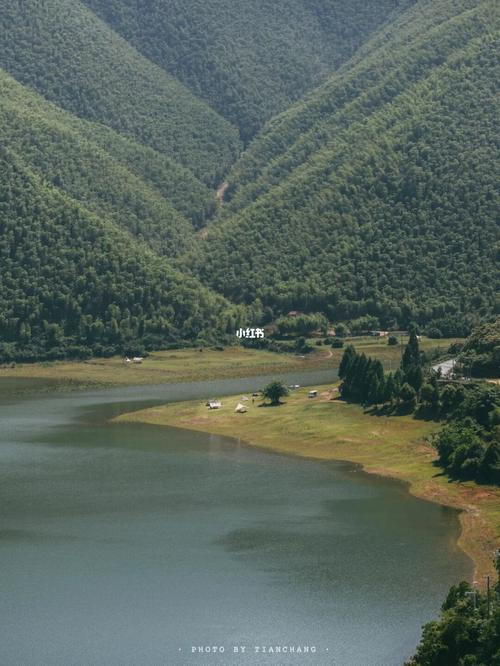mountain: (198, 60, 494, 351), (1, 72, 231, 363), (30, 54, 240, 181)
sea_river: (33, 450, 451, 657)
